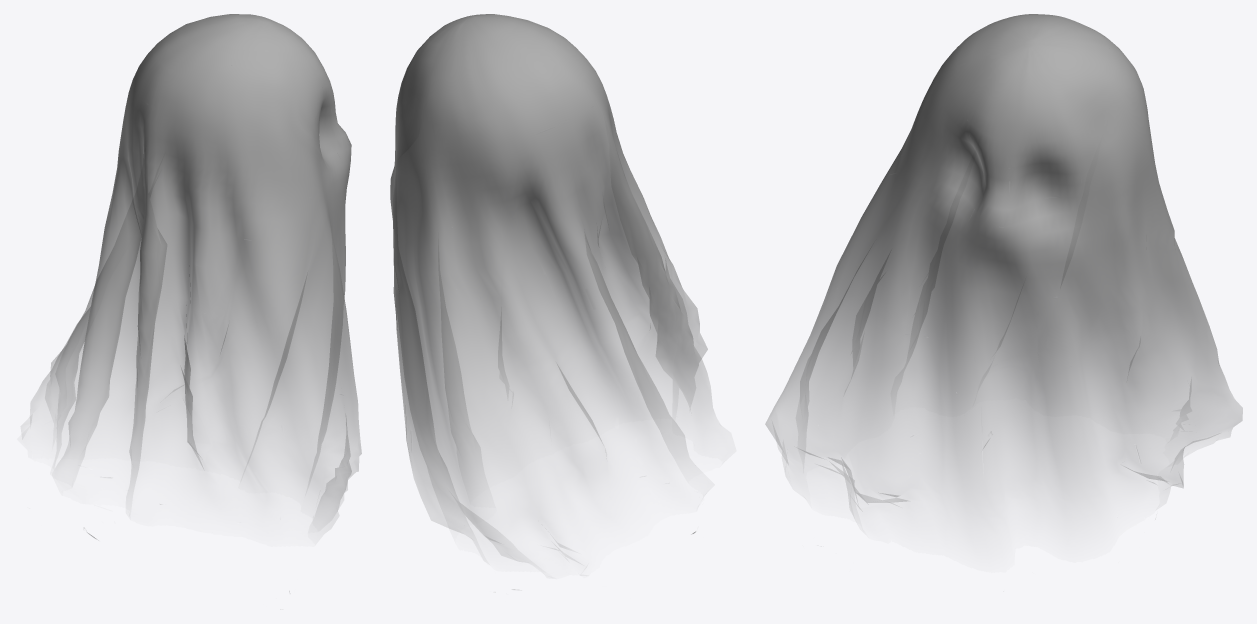
File: ghost.glb
3 views of the same model, side by side, from view 1: azimuth 30°, elevation 25°; view 2: azimuth 150°, elevation 25°; view 3: azimuth 270°, elevation 25° (orthographic). The views are drawn at different scales.
Parts seen in each view (by area): view 1: RetopoFlow.003; view 2: RetopoFlow.003; view 3: RetopoFlow.003.
Boxes of the visible parts, x1,y1,x2,y2 form: RetopoFlow.003: (22,14,361,591); RetopoFlow.003: (390,14,721,589); RetopoFlow.003: (765,14,1242,521).
Size of the model in its own units: 0.4608 by 0.7846 by 0.5946.
Materials: 1 (1 with a texture image).
